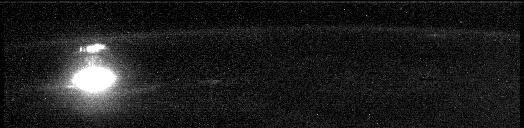positive: (76, 41, 111, 66)
